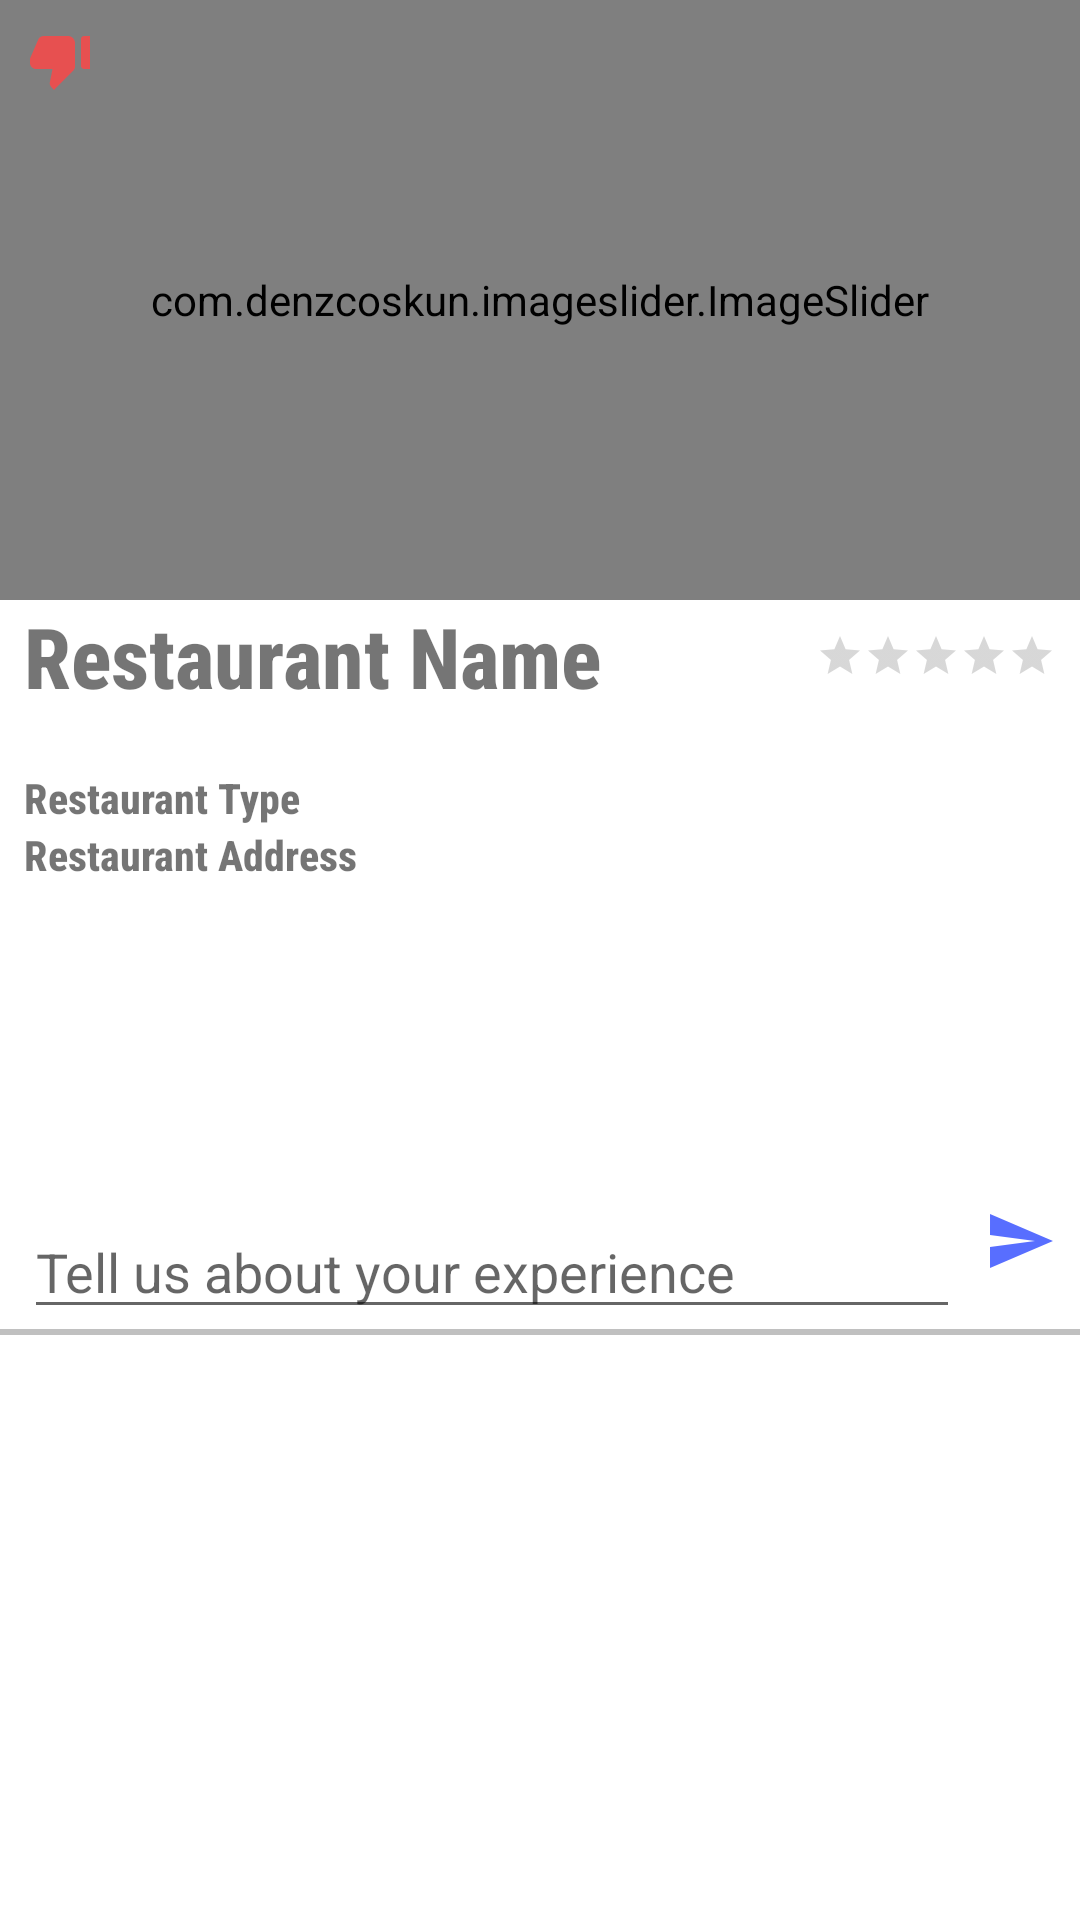

Screen size 1080 × 1920. Icon name, then its box in pixels as (x1, y1, x2, y2):
send: (990, 1214, 1053, 1268)
thumbs down: (30, 36, 90, 90)
